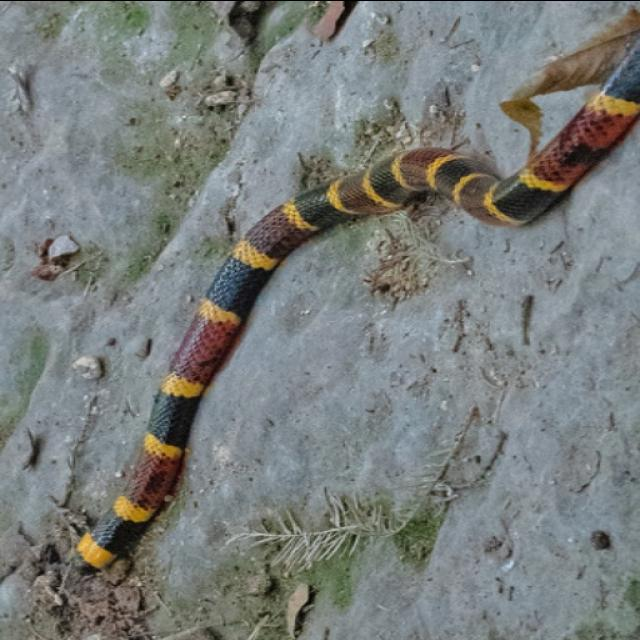snake: (52, 4, 640, 611)
